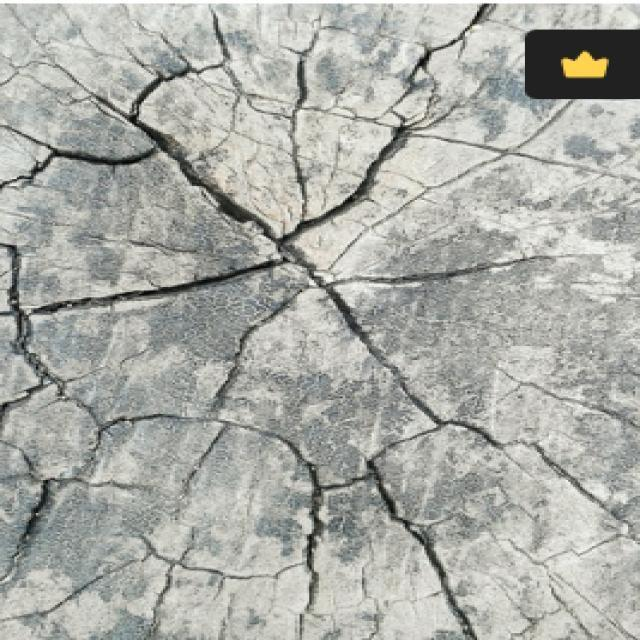network cracks: (0, 0, 635, 639), (322, 24, 370, 40)
